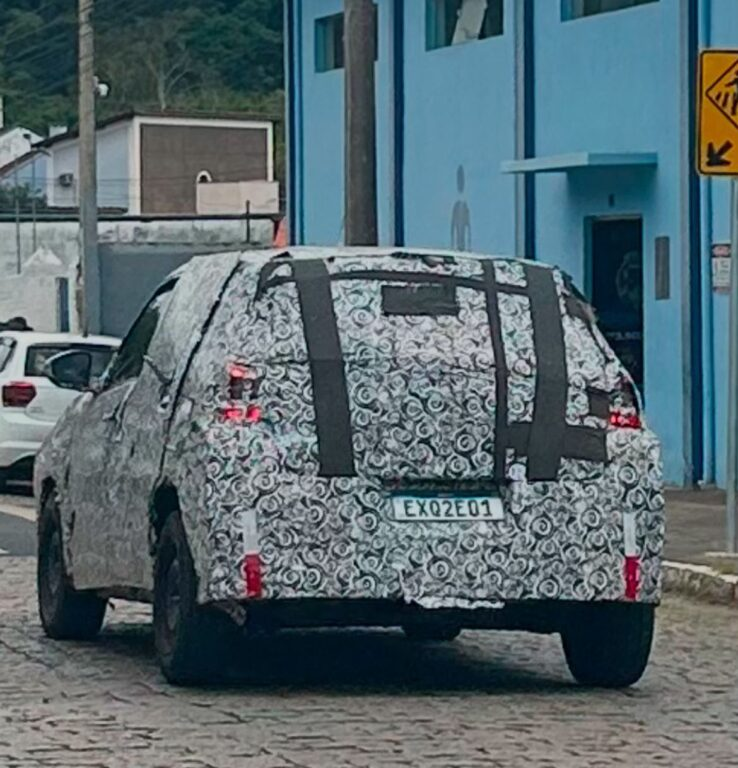car_plate: (390, 482, 506, 527)
